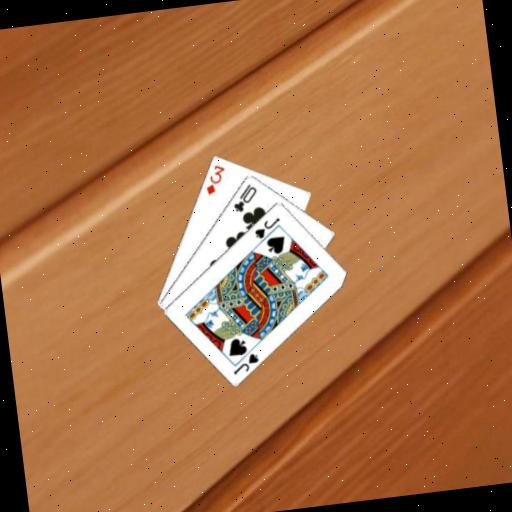10C: (228, 180, 261, 215)
3D: (200, 160, 229, 197)
JS: (228, 349, 262, 377), (250, 214, 284, 241)
